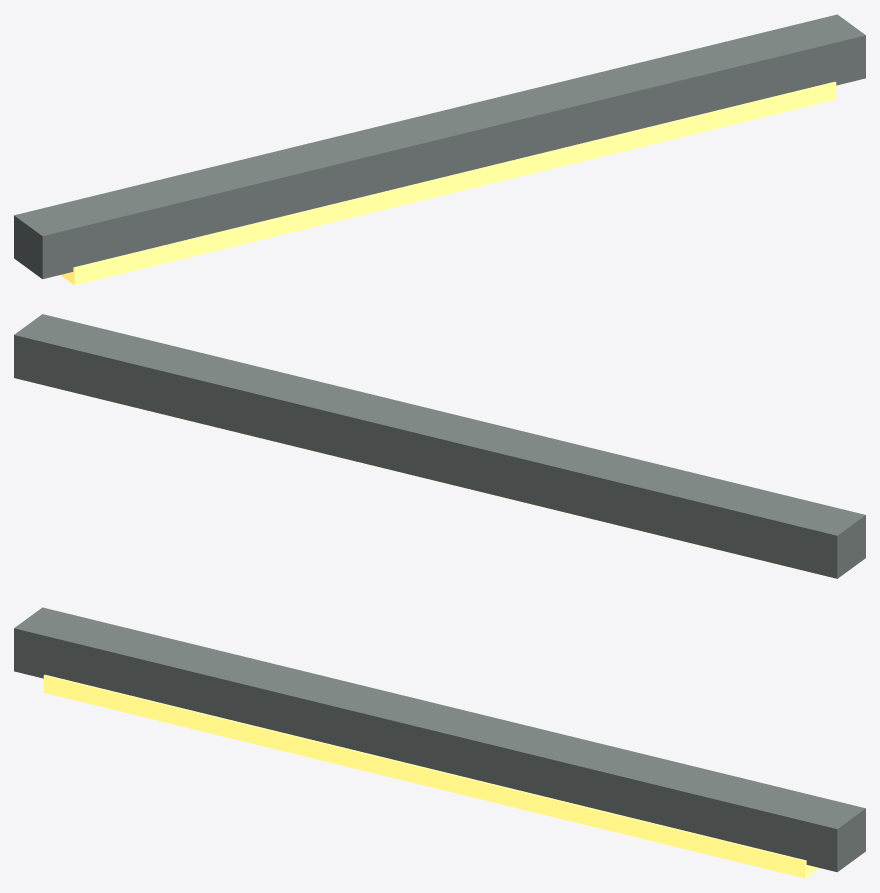
File: prop_light_strip_2m.glb
The picture shows the model from 3 angles, top to bottom: view 1: azimuth 30°, elevation 25°; view 2: azimuth 150°, elevation 25°; view 3: azimuth 330°, elevation 25°; orthographic projection.
Visible parts, largest first — view 1: prop_light_strip_2m; view 2: prop_light_strip_2m; view 3: prop_light_strip_2m.
Boxes of the visible parts, x1,y1,x2,y2 form: prop_light_strip_2m: [14, 14, 865, 285]; prop_light_strip_2m: [14, 314, 865, 578]; prop_light_strip_2m: [14, 607, 865, 878].
Bounding box in the file's own units: 2 × 0.13 × 0.125.
